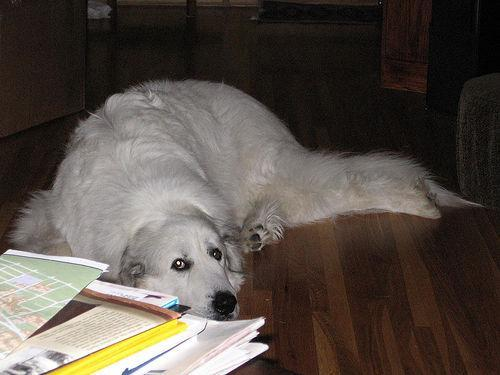Great_Pyrenees: (0, 73, 492, 328)
